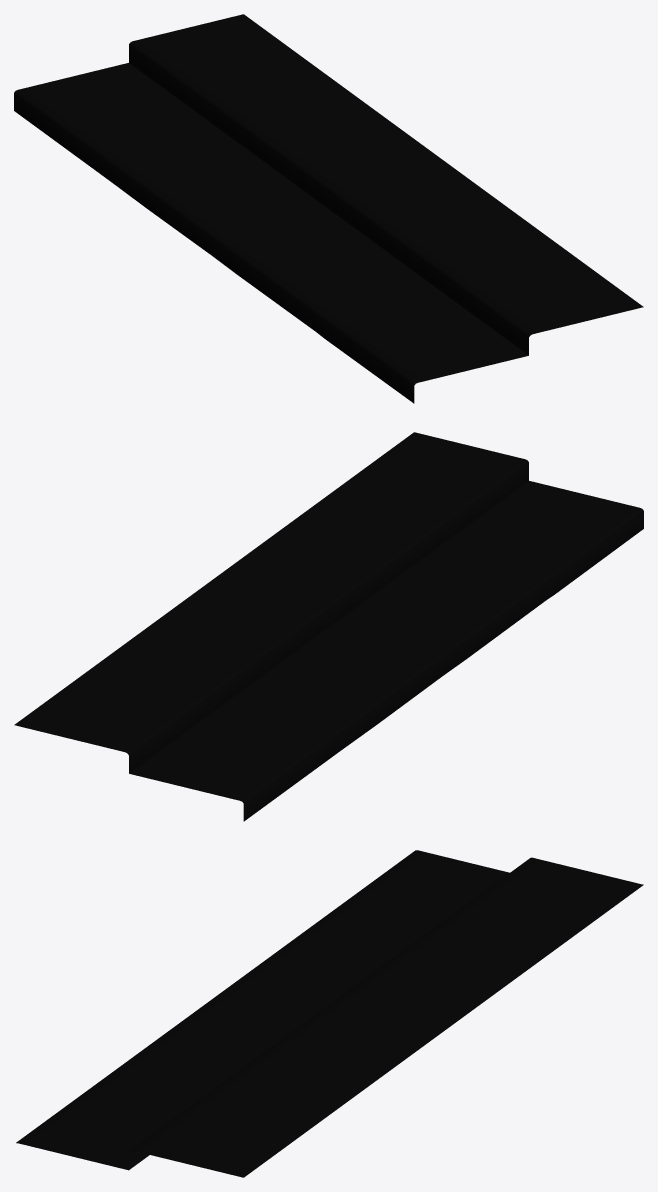
3 views of the same model, one above another, from view 1: azimuth 30°, elevation 25°; view 2: azimuth 150°, elevation 25°; view 3: azimuth 330°, elevation 25° (orthographic).
Parts seen in each view (by area): view 1: Joint_0_Object_0; view 2: Joint_0_Object_0; view 3: Joint_0_Object_0.
Boxes of the visible parts, x1=… form: Joint_0_Object_0: x1=14, y1=14, x2=643, y2=403; Joint_0_Object_0: x1=14, y1=432, x2=643, y2=821; Joint_0_Object_0: x1=16, y1=850, x2=643, y2=1177.
Size of the model in its own units: 1200 by 202 by 3613.
1 material, 1 textured.
